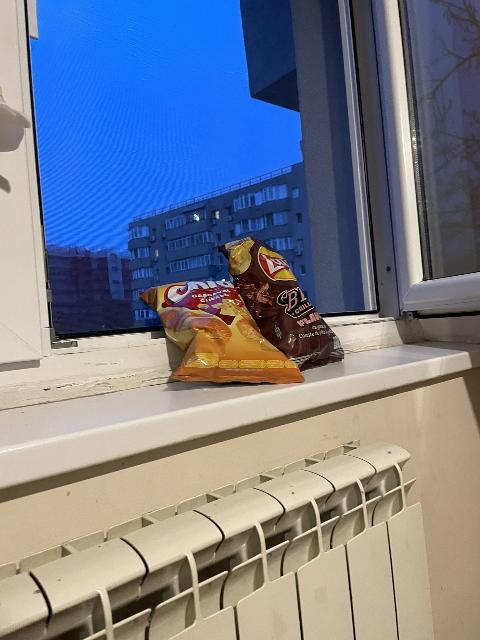Chio Cascaval 125g: (133, 277, 305, 388)
Lays Beef Grilled Ribs 125g: (220, 235, 339, 371)
